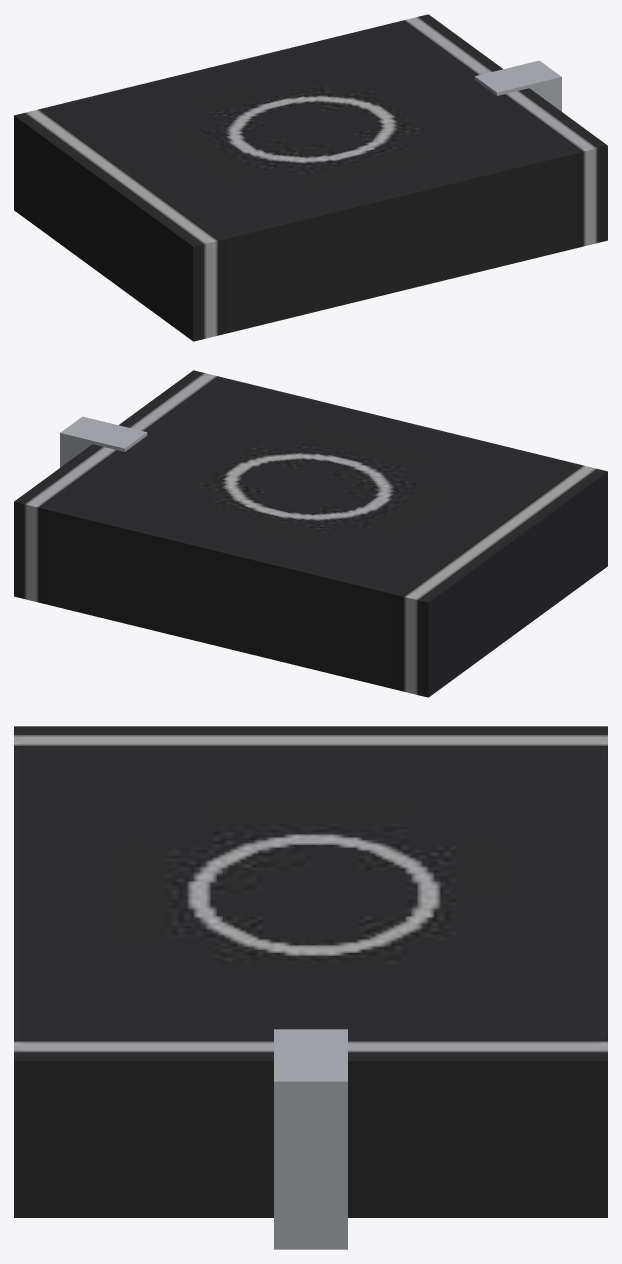
File: book.glb
The picture shows the model from 3 angles, top to bottom: view 1: azimuth 30°, elevation 25°; view 2: azimuth 150°, elevation 25°; view 3: azimuth 270°, elevation 25°; orthographic projection. The views are drawn at different scales.
Visible parts, largest first — view 1: book, clasp; view 2: book, clasp; view 3: book, clasp.
Boxes of the visible parts, bbox=[...] form: book: bbox=[14, 14, 607, 341]; clasp: bbox=[474, 60, 561, 111]; book: bbox=[14, 370, 607, 697]; clasp: bbox=[60, 416, 147, 467]; book: bbox=[14, 726, 607, 1217]; clasp: bbox=[274, 1029, 347, 1249].
Bounding box in the file's own units: 0.345 × 0.075 × 0.24.
Materials: 2 (2 with a texture image).
